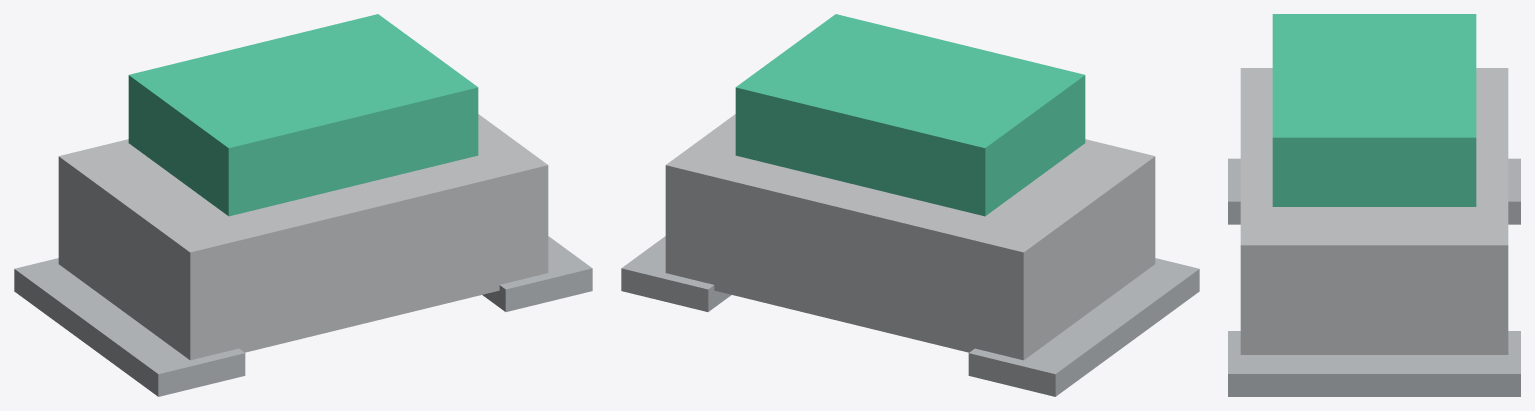
File: 199_L117_LED3.glb
3 renders of one model, left to right at view 1: azimuth 30°, elevation 25°; view 2: azimuth 150°, elevation 25°; view 3: azimuth 270°, elevation 25°, orthographic.
Parts seen in each view (by area): view 1: 000_Connector_White__PSMAT__Connector_White, 001_LED_Emerald__PSMAT__LED_Emerald, 002_Solder_Tin__PSMAT__Solder_Tin, 003_Solder_Tin__PSMAT__Solder_Tin; view 2: 000_Connector_White__PSMAT__Connector_White, 001_LED_Emerald__PSMAT__LED_Emerald, 002_Solder_Tin__PSMAT__Solder_Tin, 003_Solder_Tin__PSMAT__Solder_Tin; view 3: 000_Connector_White__PSMAT__Connector_White, 001_LED_Emerald__PSMAT__LED_Emerald, 003_Solder_Tin__PSMAT__Solder_Tin, 002_Solder_Tin__PSMAT__Solder_Tin.
Boxes of the visible parts, <box> form: 000_Connector_White__PSMAT__Connector_White: <box>58,114,548,360</box>; 001_LED_Emerald__PSMAT__LED_Emerald: <box>128,14,478,216</box>; 002_Solder_Tin__PSMAT__Solder_Tin: <box>14,258,245,396</box>; 003_Solder_Tin__PSMAT__Solder_Tin: <box>482,236,592,311</box>; 000_Connector_White__PSMAT__Connector_White: <box>665,114,1155,360</box>; 001_LED_Emerald__PSMAT__LED_Emerald: <box>735,14,1085,216</box>; 002_Solder_Tin__PSMAT__Solder_Tin: <box>968,258,1199,396</box>; 003_Solder_Tin__PSMAT__Solder_Tin: <box>621,236,731,311</box>; 000_Connector_White__PSMAT__Connector_White: <box>1240,68,1508,354</box>; 001_LED_Emerald__PSMAT__LED_Emerald: <box>1272,14,1476,206</box>; 003_Solder_Tin__PSMAT__Solder_Tin: <box>1228,331,1520,396</box>; 002_Solder_Tin__PSMAT__Solder_Tin: <box>1228,158,1520,224</box>.
Bounding box in the file's own units: 0.004 × 0.00185 × 0.0023.
